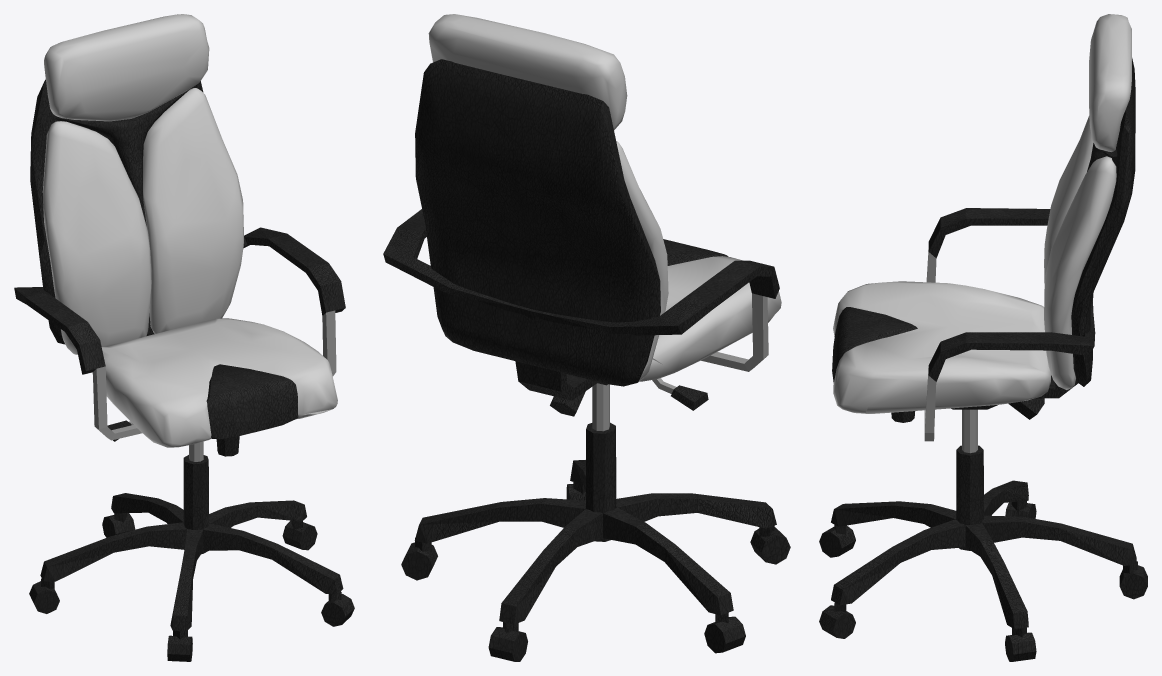
Rendered from Chair.FBX.
3 views of the same model, side by side, from view 1: azimuth 30°, elevation 25°; view 2: azimuth 150°, elevation 25°; view 3: azimuth 270°, elevation 25° (orthographic). The views are drawn at different scales.
Parts seen in each view (by area): view 1: chair; view 2: chair; view 3: chair.
Boxes of the visible parts, bbox=[...] form: chair: bbox=[14, 14, 354, 661]; chair: bbox=[383, 14, 790, 661]; chair: bbox=[819, 14, 1147, 661].
Size of the model in its own units: 63.67 by 111 by 60.54.
